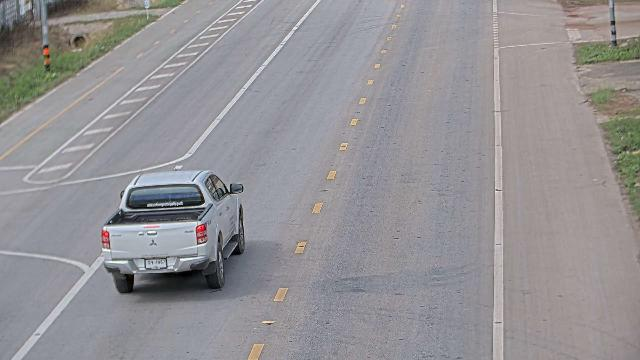pickup-truck: (100, 167, 246, 293)
